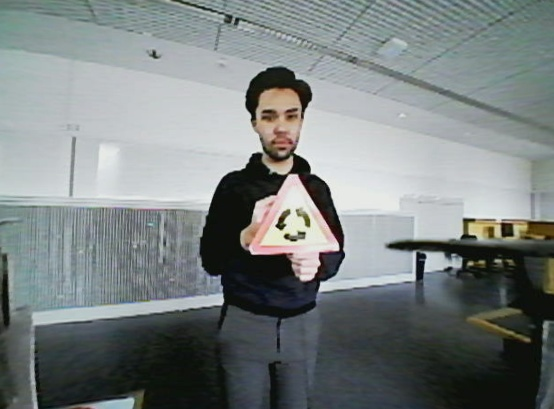roundabout_warning: (243, 175, 347, 256)
